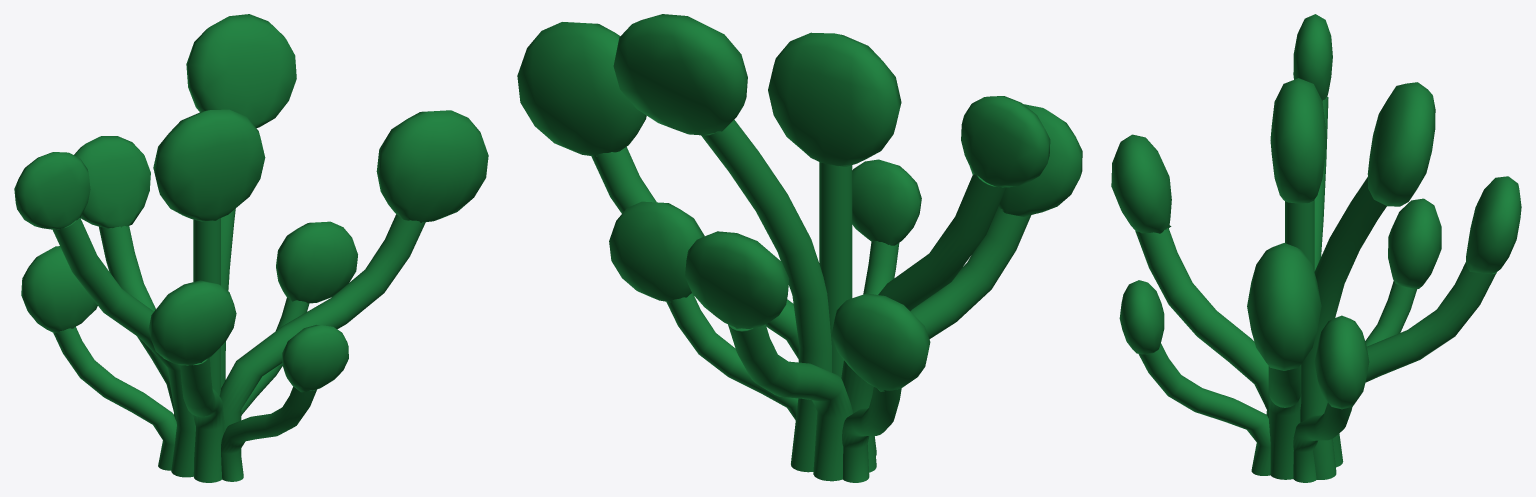
File: Bush1.fbx
The picture shows the model from 3 angles, left to right: view 1: azimuth 30°, elevation 25°; view 2: azimuth 150°, elevation 25°; view 3: azimuth 270°, elevation 25°; orthographic projection. The views are drawn at different scales.
Parts seen in each view (by area): view 1: Arbusto1; view 2: Arbusto1; view 3: Arbusto1.
Boxes of the visible parts, x1,y1,x2,y2 form: Arbusto1: [14, 14, 488, 482]; Arbusto1: [517, 14, 1082, 482]; Arbusto1: [1111, 14, 1521, 482].
Bounding box in the file's own units: 32.56 × 26.66 × 23.62.
